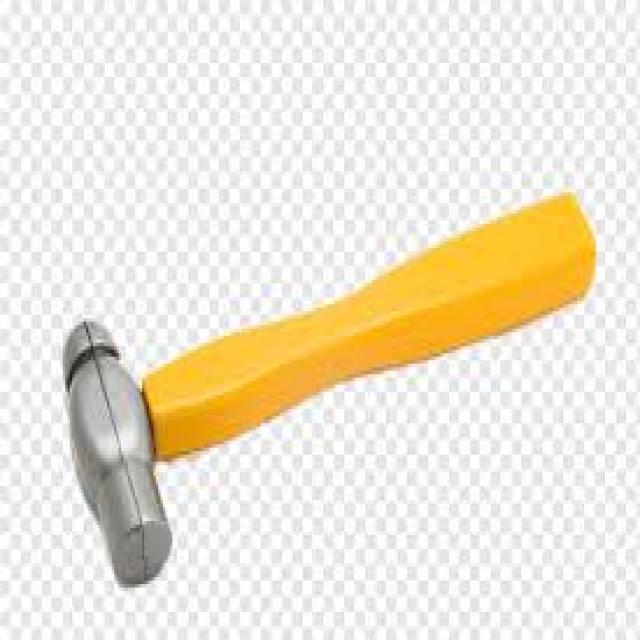hammer: (55, 169, 615, 593)
